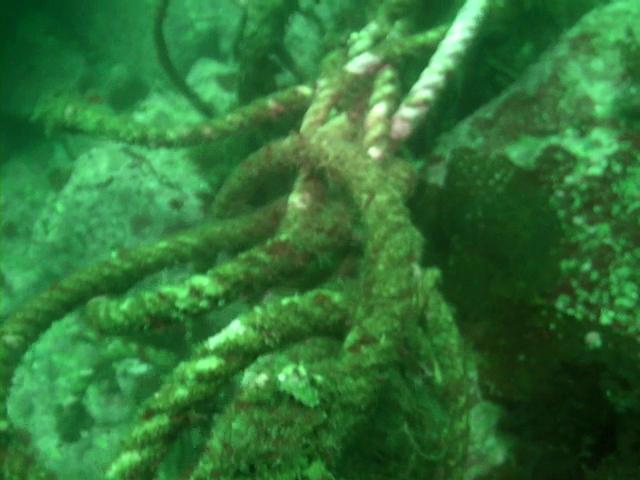bundle of ropes: (0, 0, 490, 480)
